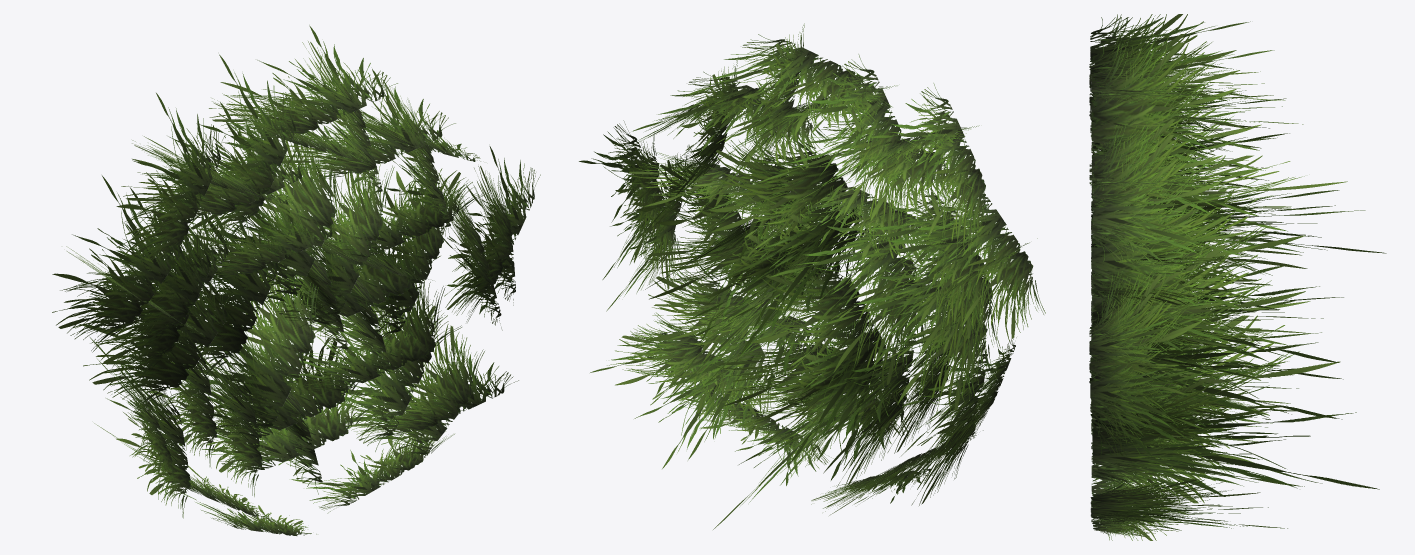
File: Grass.fbx
3 views of the same model, side by side, from view 1: azimuth 30°, elevation 25°; view 2: azimuth 150°, elevation 25°; view 3: azimuth 270°, elevation 25° (orthographic). The views are drawn at different scales.
Visible parts, largest first — view 1: Grass; view 2: Grass; view 3: Grass.
Part boxes in pixels (left/top/right/bottom): Grass: left=52, top=25, right=540, bottom=535; Grass: left=579, top=23, right=1045, bottom=529; Grass: left=1089, top=14, right=1386, bottom=540.
Size of the model in its own units: 187 by 189 by 105.
